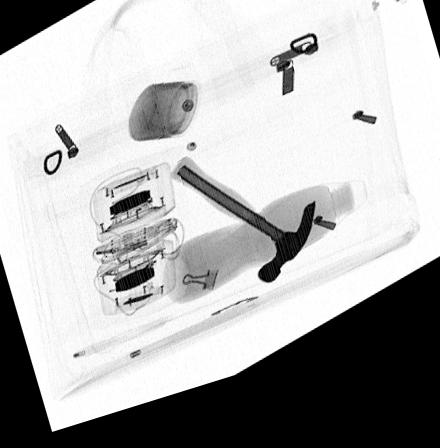Hammer: (169, 167, 316, 301)
